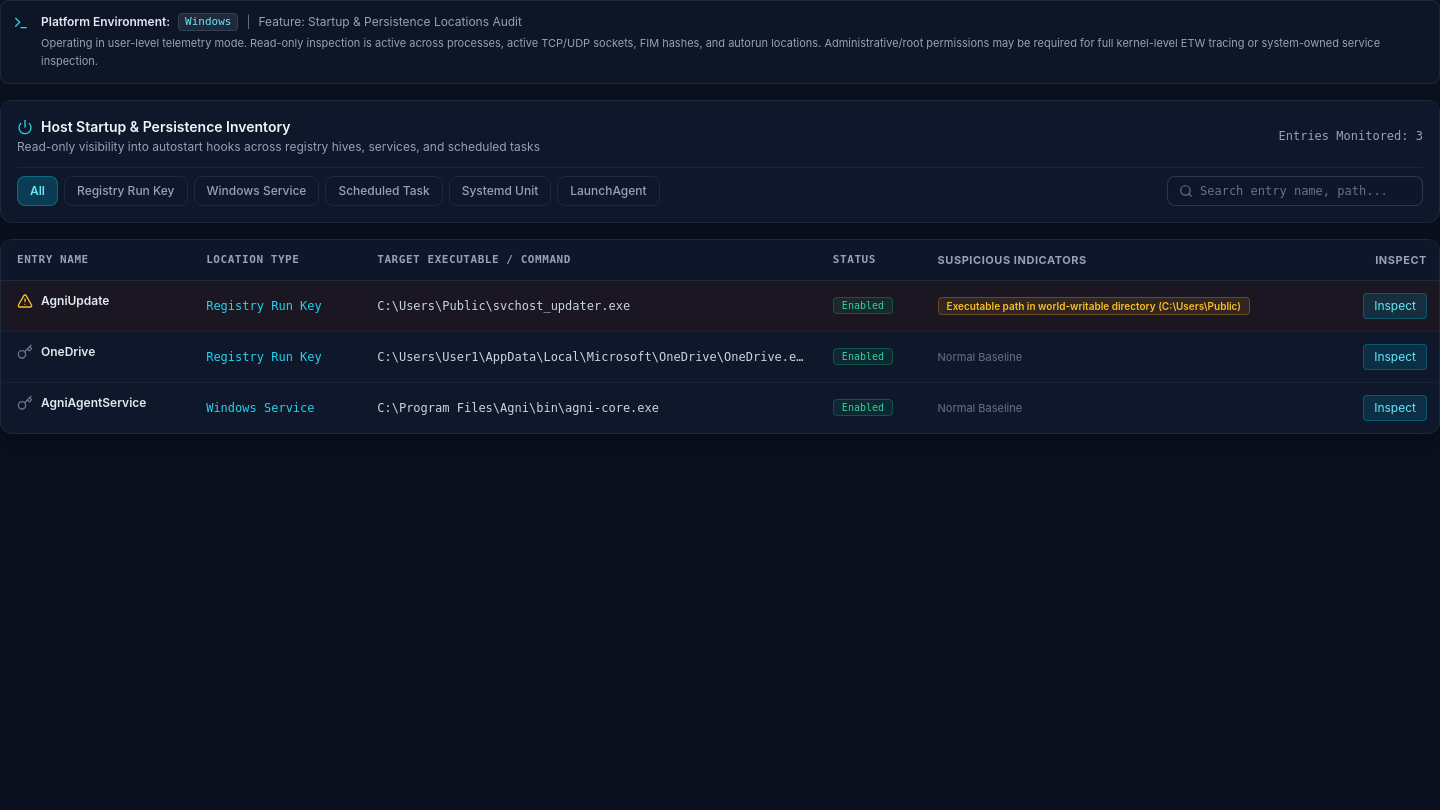
Test: Persistence View › renders autorun entries and allows category filtering
Check: the text "AgniUpdate" is shown, box 41,293 -> 110,309
Check: the button "Registry Run Key" is shown, box 64,176 -> 188,206
Click inspect
Click the button "Inspect" in the row of "AgniUpdate".
click(1395, 306)  # box 1363,293 -> 1427,319
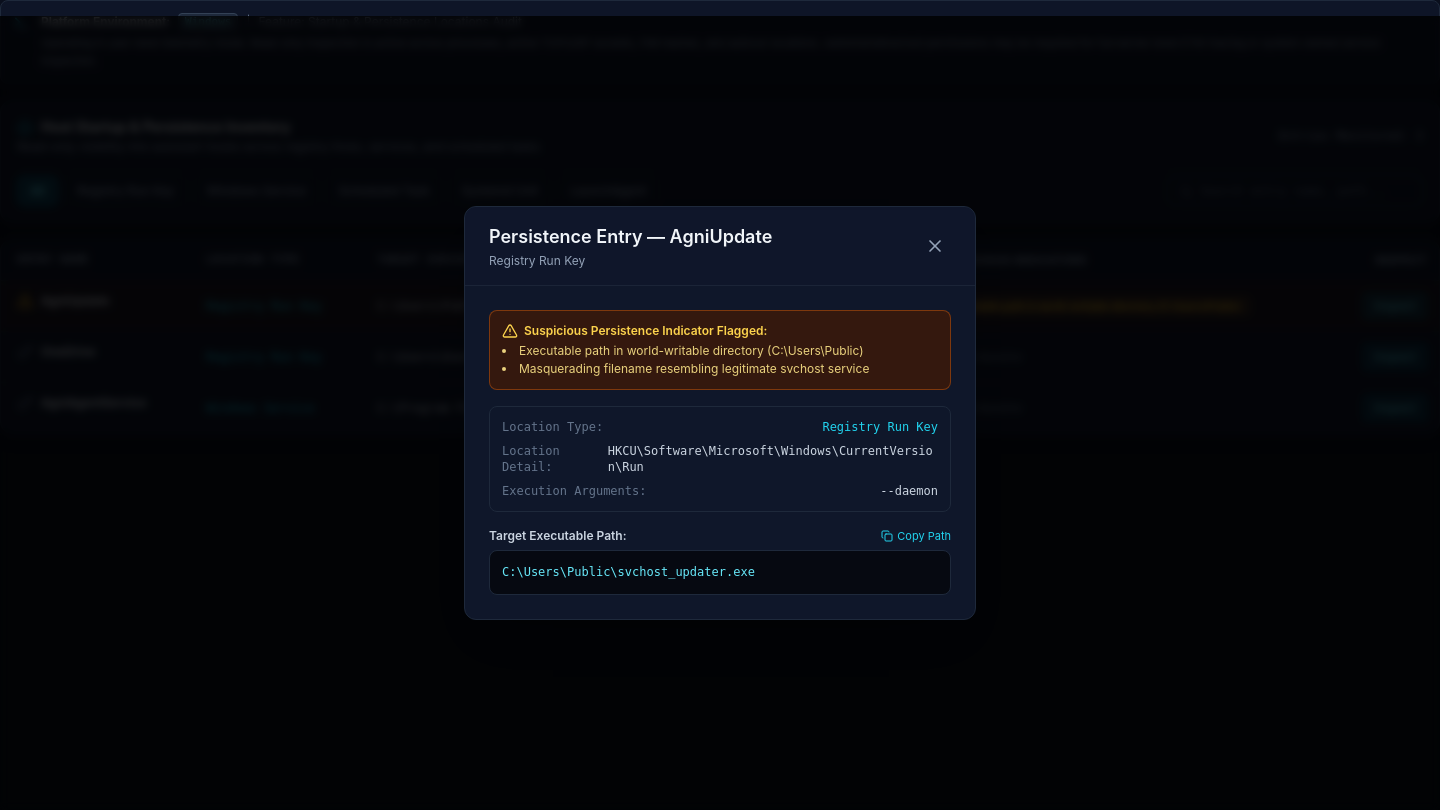
Check: the text "Target Executable Path:" is shown, box 489,528 -> 626,544
